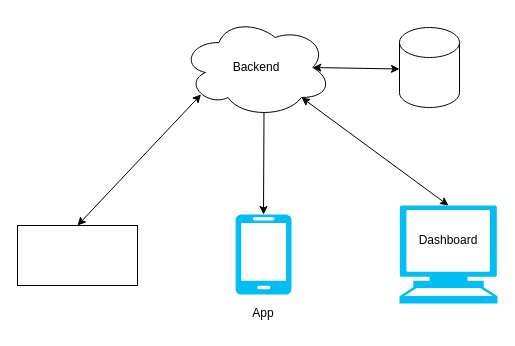
Some shapes in this 515 by 346 pixel diagram are drawn without their labels. Each missing label, with the centre of its shape:
"DB" goes at [429,67].
"ESP32" goes at [77,255].
